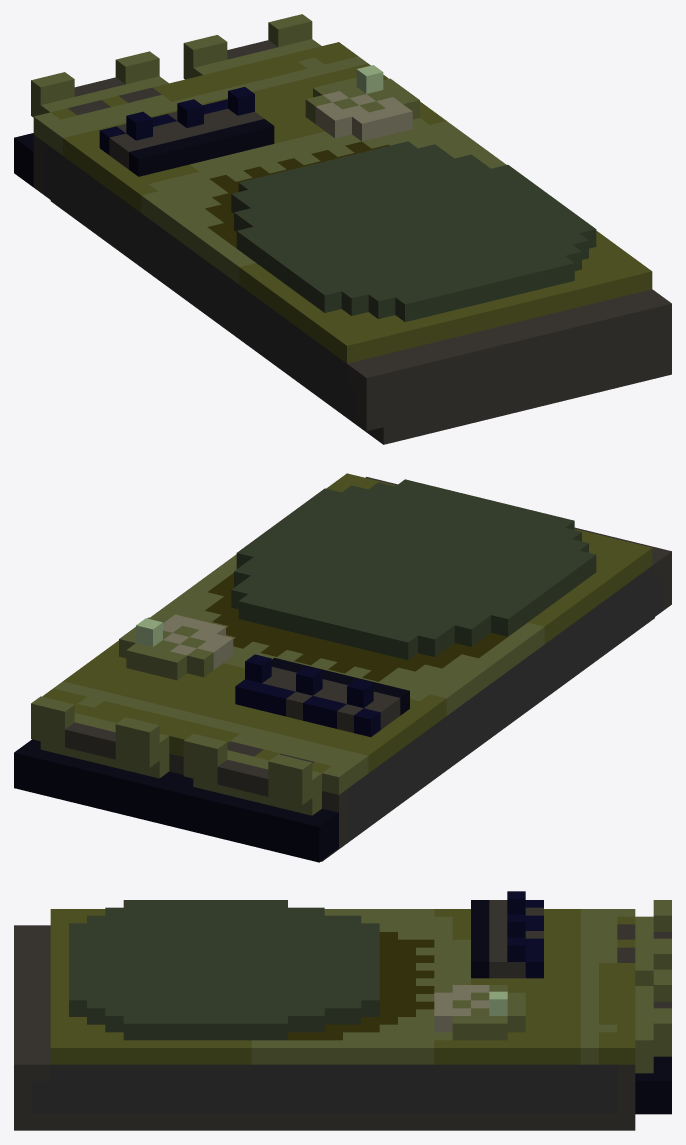
The model's file is firsttank-28.obj.
3 renders of one model, top to bottom at view 1: azimuth 30°, elevation 25°; view 2: azimuth 150°, elevation 25°; view 3: azimuth 270°, elevation 25°, orthographic. The views are drawn at different scales.
Size of the model in its own units: 1.8 by 0.7 by 3.6.
1 material, 1 textured.
